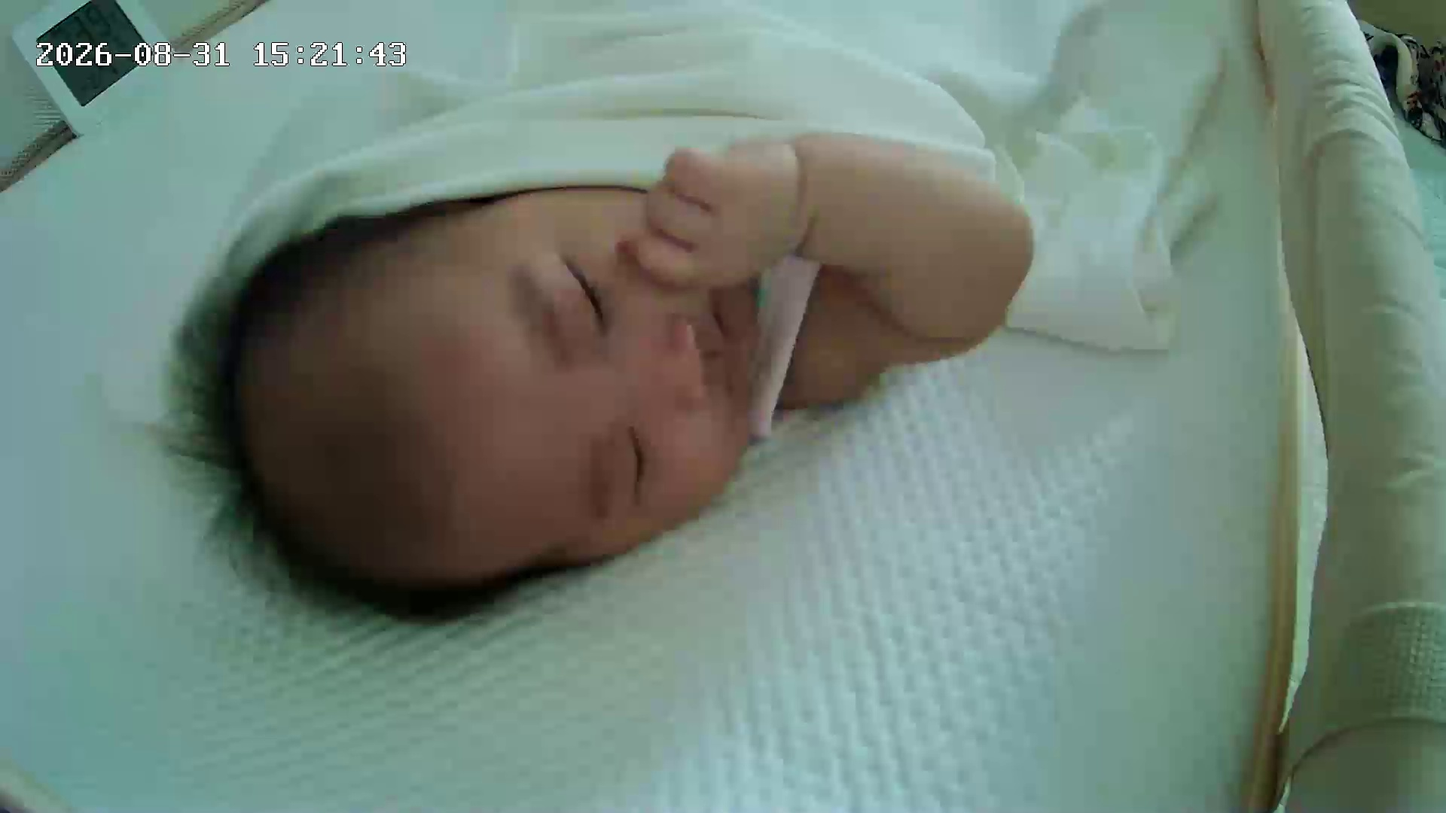baby: (164, 0, 1240, 671)
baby_face: (169, 168, 786, 634)
